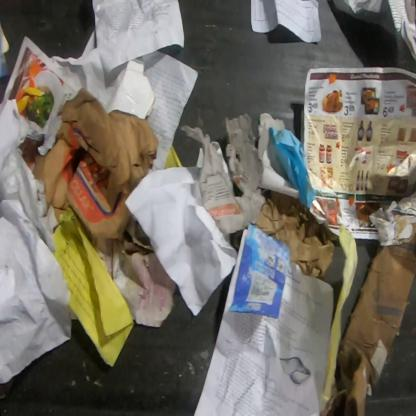cardboard: (319, 243, 415, 415), (179, 113, 268, 237)
rigid_plastic: (50, 48, 156, 121)
